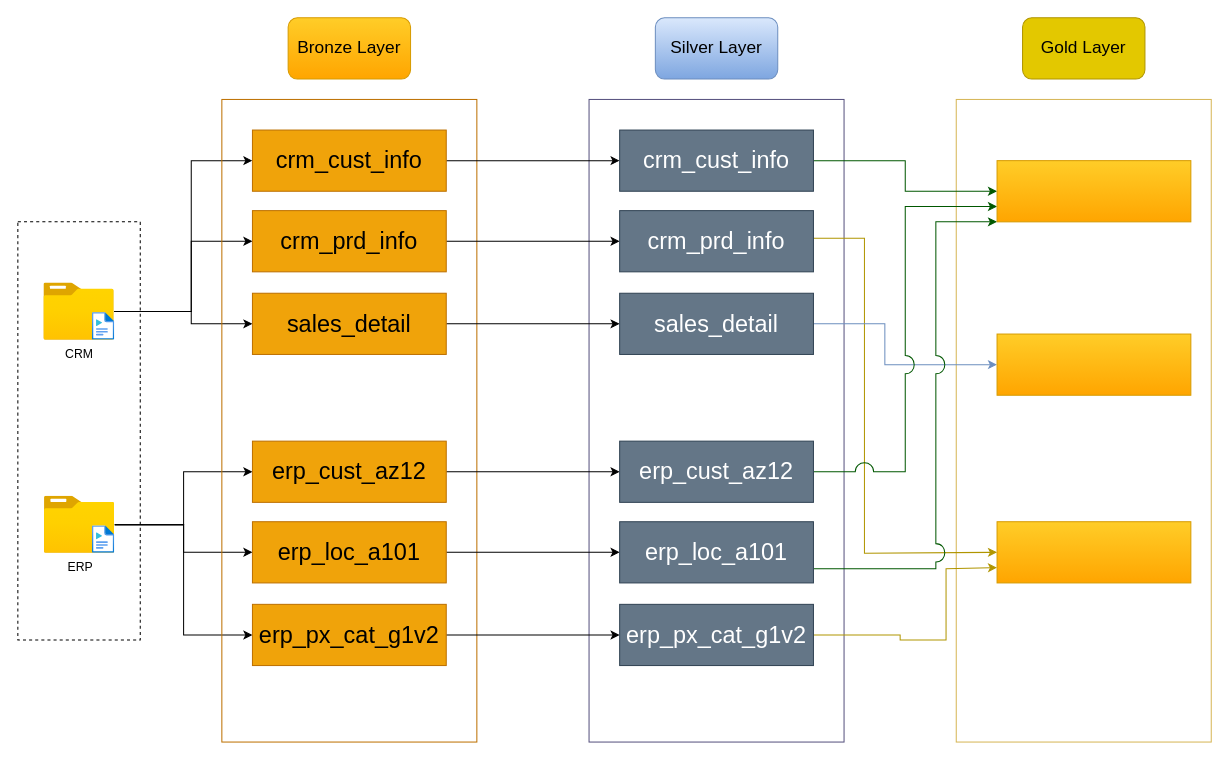
This 1229x760 diagram has some shape labels left out. The centre of each missing label's shape, as x and y in pixels:
"dim_customers" belongs at (1093,191).
"dim_products" belongs at (1093,552).
"fact_sales" belongs at (1093,364).
